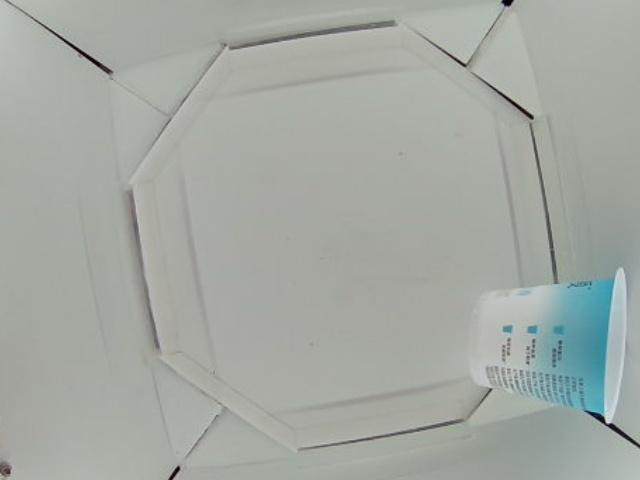Cup: (471, 268, 628, 426)
